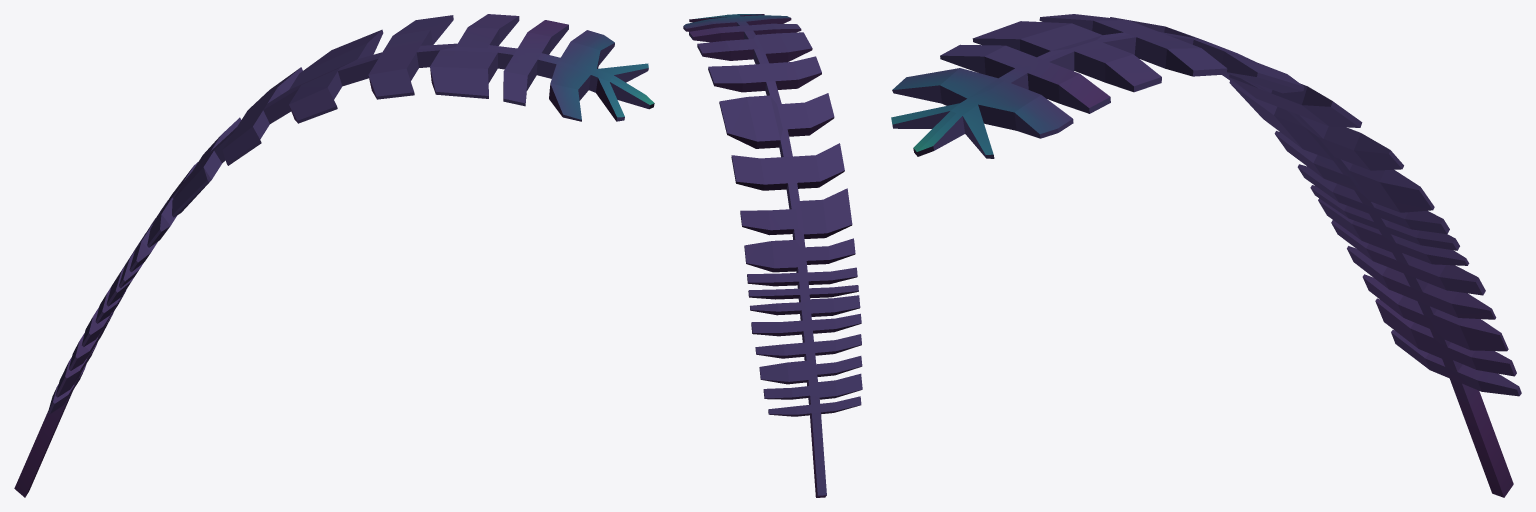
File: Garden_FernPurple02.fbx
3 renders of one model, left to right at view 1: azimuth 30°, elevation 25°; view 2: azimuth 150°, elevation 25°; view 3: azimuth 270°, elevation 25°, orthographic. The views are drawn at different scales.
Parts seen in each view (by area): view 1: Cube.417; view 2: Cube.417; view 3: Cube.417.
Boxes of the visible parts, x1,y1,x2,y2 form: Cube.417: (14, 14, 654, 497); Cube.417: (683, 14, 862, 497); Cube.417: (891, 14, 1521, 497).
Bounding box in the file's own units: 192 × 216 × 201.
